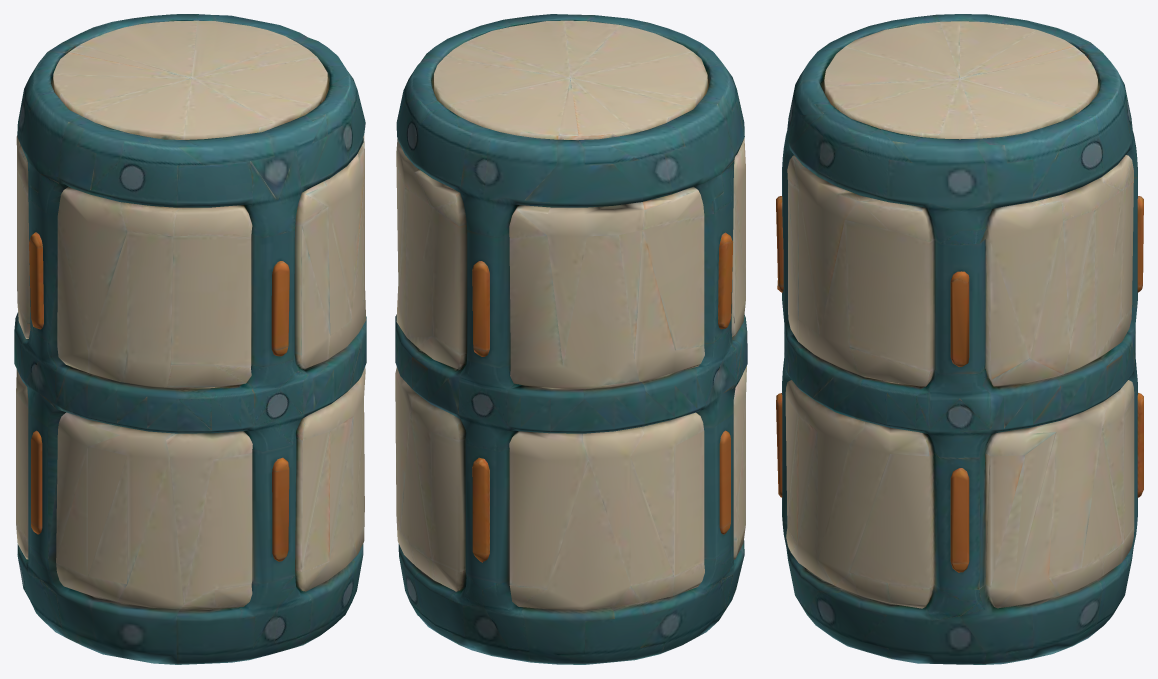
Rendered from rocket_upper_hull-lod0.51b5d45e5c1f.glb.
3 views of the same model, side by side, from view 1: azimuth 30°, elevation 25°; view 2: azimuth 150°, elevation 25°; view 3: azimuth 270°, elevation 25° (orthographic).
Parts seen in each view (by area): view 1: geometry_0; view 2: geometry_0; view 3: geometry_0.
Part boxes in pixels (x1,y1,x2,y2): geometry_0: [14, 14, 366, 664]; geometry_0: [395, 14, 747, 664]; geometry_0: [776, 14, 1143, 664].
Bounding box in the file's own units: 0.606 × 0.9512 × 0.6079.
Materials: 1 (1 with a texture image).
